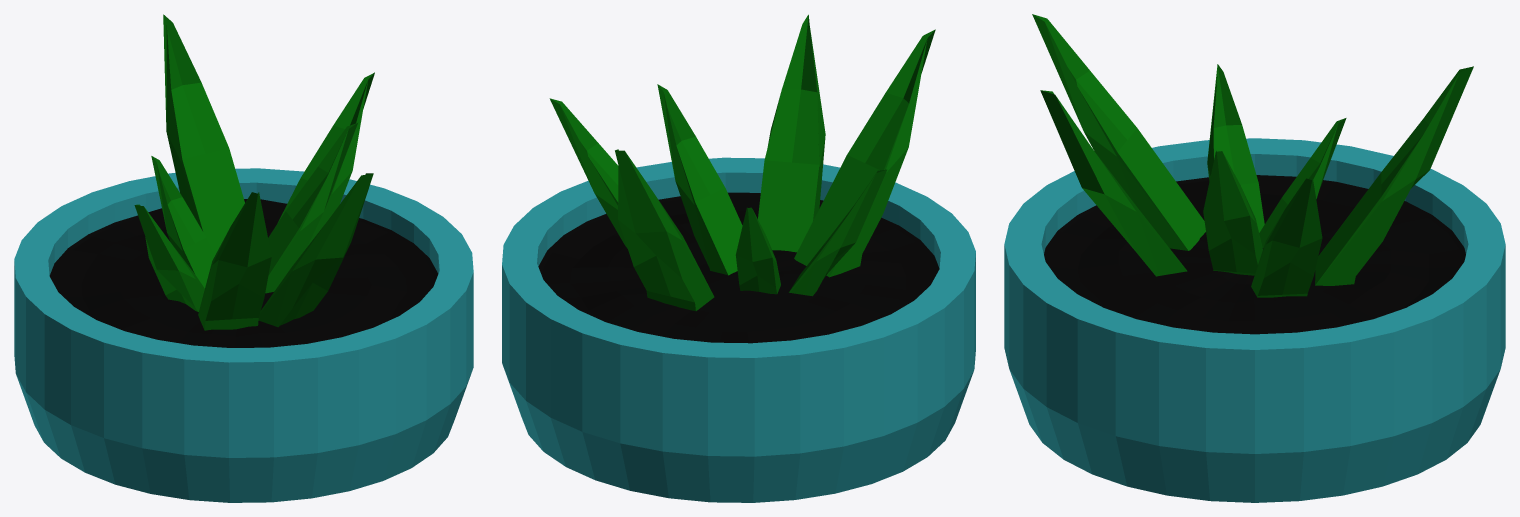
The model's file is aloe_in_pot.obj.
The picture shows the model from 3 angles, left to right: view 1: azimuth 30°, elevation 25°; view 2: azimuth 150°, elevation 25°; view 3: azimuth 270°, elevation 25°; orthographic projection. The views are drawn at different scales.
Parts seen in each view (by area): view 1: Cylinder, Sphere, Cube.001, Cube.006, Cube.004, Cube.003, Cube.005, Cube.007, Cube.002; view 2: Cylinder, Sphere, Cube.004, Cube.006, Cube.001, Cube.003, Cube.007, Cube.002, Cube.005; view 3: Cylinder, Sphere, Cube.006, Cube.001, Cube.004, Cube.007, Cube.003, Cube.002, Cube.005.
Boxes of the visible parts, x1,y1,x2,y2 form: Cylinder: (14, 168, 473, 502); Sphere: (49, 199, 438, 347); Cube.001: (163, 14, 244, 255); Cube.006: (198, 192, 271, 330); Cube.004: (258, 173, 373, 327); Cube.003: (265, 123, 357, 293); Cube.005: (151, 156, 214, 288); Cube.007: (278, 72, 374, 246); Cube.002: (134, 204, 204, 311); Cylinder: (502, 157, 975, 502); Sphere: (538, 192, 939, 343); Cube.004: (758, 14, 825, 252); Cube.006: (794, 29, 935, 277); Cube.001: (615, 149, 714, 311); Cube.003: (657, 84, 742, 275); Cube.007: (549, 98, 627, 248); Cube.002: (789, 169, 886, 296); Cube.005: (735, 207, 780, 294); Cylinder: (1004, 138, 1505, 502); Sphere: (1044, 175, 1465, 334); Cube.006: (1032, 14, 1205, 250); Cube.001: (1315, 66, 1473, 285); Cube.004: (1040, 90, 1187, 276); Cube.007: (1251, 178, 1322, 297); Cube.003: (1203, 151, 1262, 275); Cube.002: (1207, 64, 1264, 232); Cube.005: (1259, 118, 1346, 248).
Bounding box in the file's own units: 2 × 1.54 × 2.
